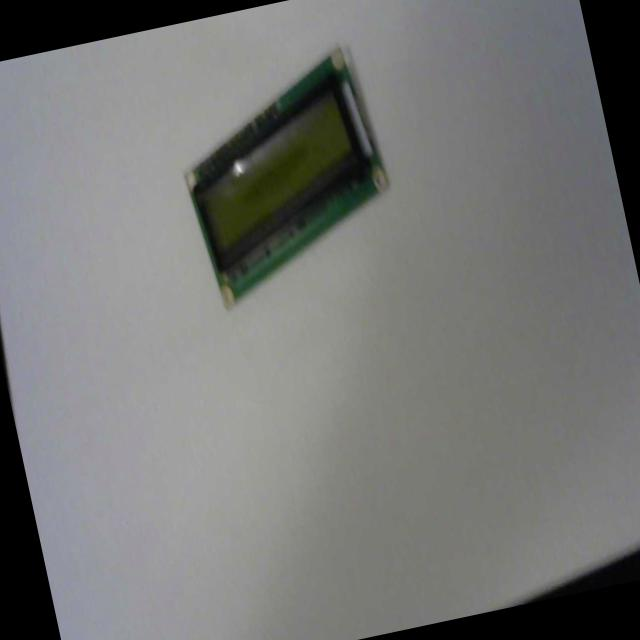lcd: (161, 38, 409, 312)
